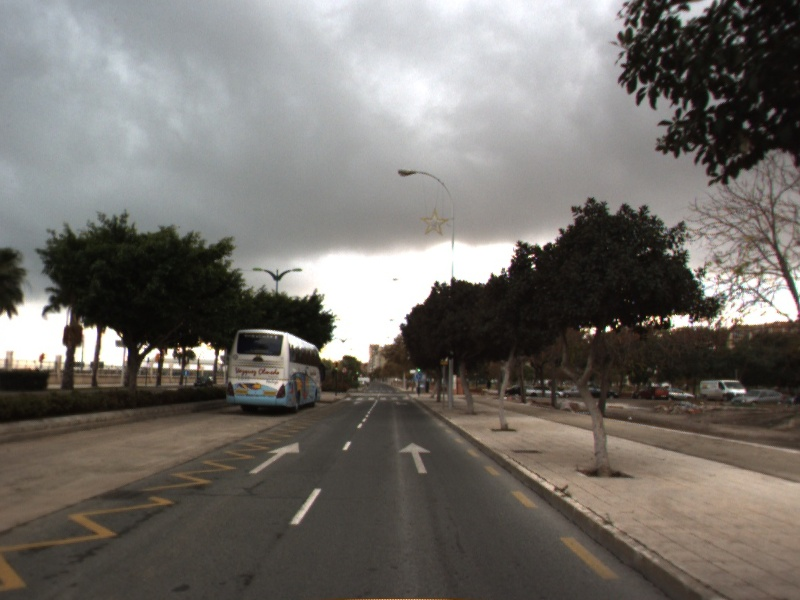STRAIGHT: (247, 440, 301, 475), (396, 440, 433, 475)
